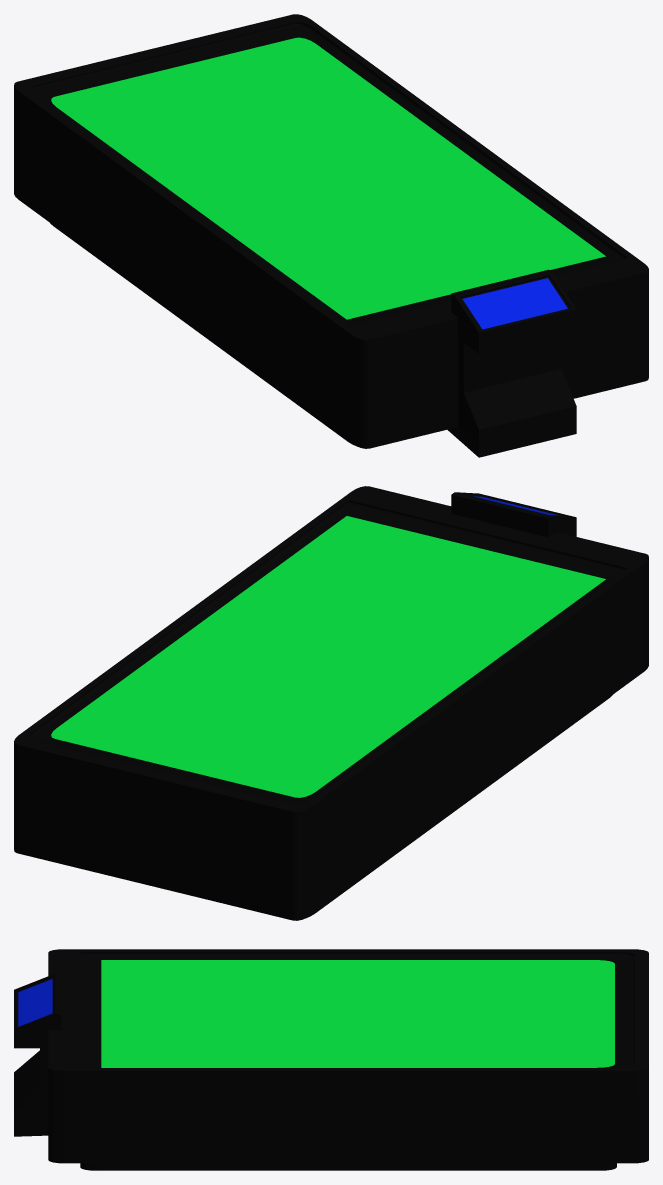
The model's file is DisplayTableBig.fbx.
The picture shows the model from 3 angles, top to bottom: view 1: azimuth 30°, elevation 25°; view 2: azimuth 150°, elevation 25°; view 3: azimuth 270°, elevation 25°; orthographic projection. The views are drawn at different scales.
Visible parts, largest first — view 1: Cube; view 2: Cube; view 3: Cube.
Part boxes in pixels (bbox=[...]): Cube: bbox=[14, 14, 648, 457]; Cube: bbox=[14, 486, 648, 920]; Cube: bbox=[14, 949, 648, 1170].
Size of the model in its own units: 366 by 172 by 807.
